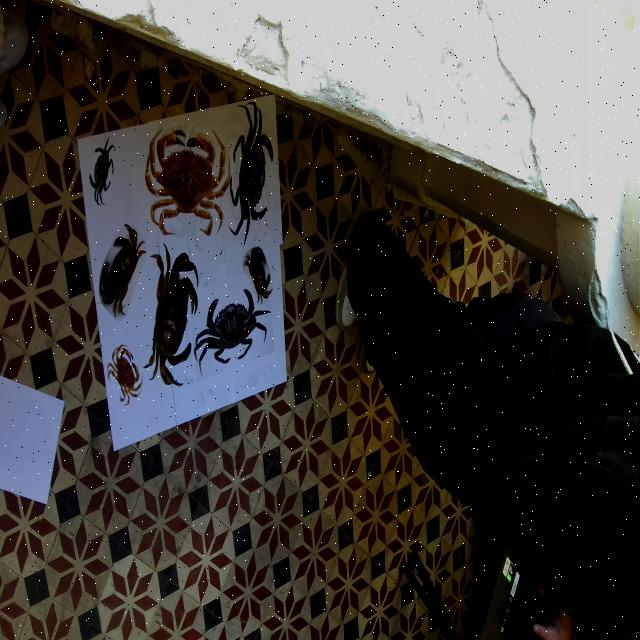European_Green_Crab: (188, 277, 276, 379), (225, 97, 278, 254), (85, 129, 120, 211)
